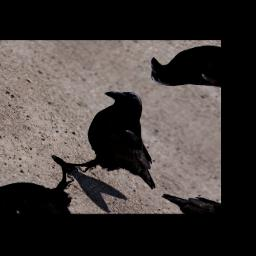Crow: (35, 80, 210, 211)
